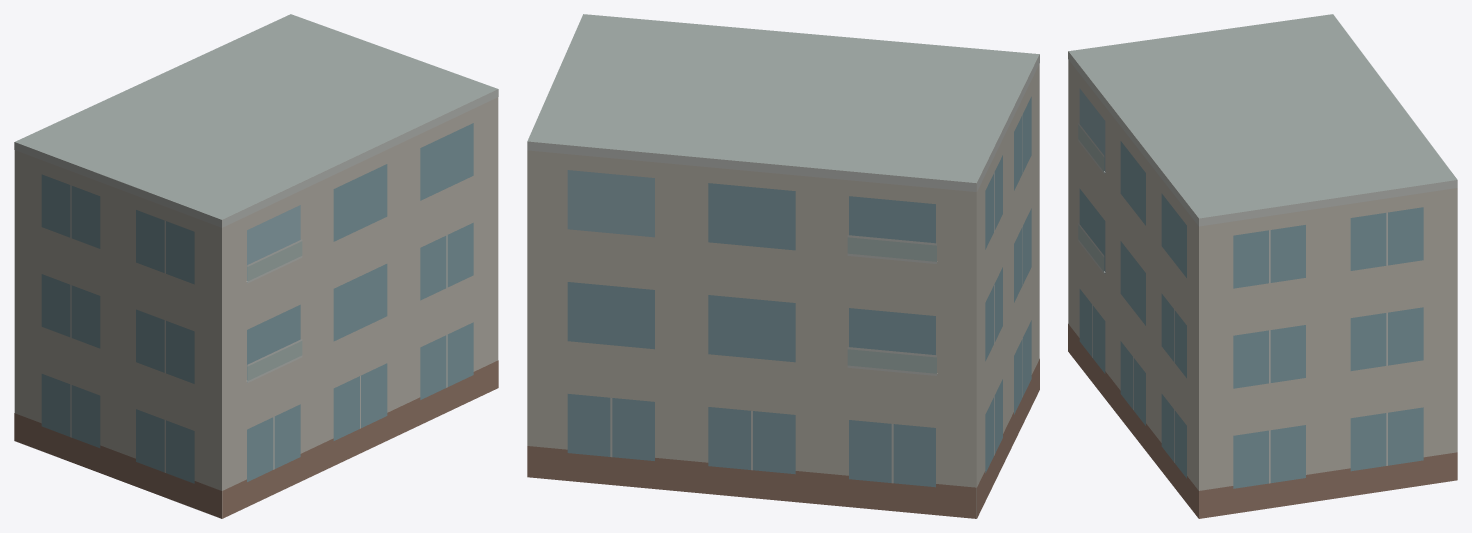
File: survey-upis-32613305.glb
The picture shows the model from 3 angles, left to right: view 1: azimuth 30°, elevation 25°; view 2: azimuth 150°, elevation 25°; view 3: azimuth 270°, elevation 25°; orthographic projection. The views are drawn at different scales.
Parts seen in each view (by area): view 1: survey-upis-32613305.tmp; view 2: survey-upis-32613305.tmp; view 3: survey-upis-32613305.tmp.
Boxes of the visible parts, x1,y1,x2,y2 form: survey-upis-32613305.tmp: (14, 14, 498, 518); survey-upis-32613305.tmp: (527, 14, 1039, 518); survey-upis-32613305.tmp: (1068, 14, 1457, 518).
Bounding box in the file's own units: 13.37 × 9.15 × 10.76.
